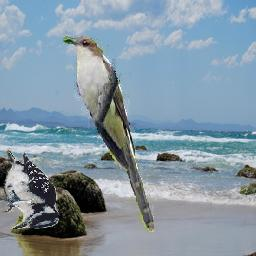Cuckoo: (64, 36, 155, 232)
Woodpecker: (0, 147, 59, 229)
